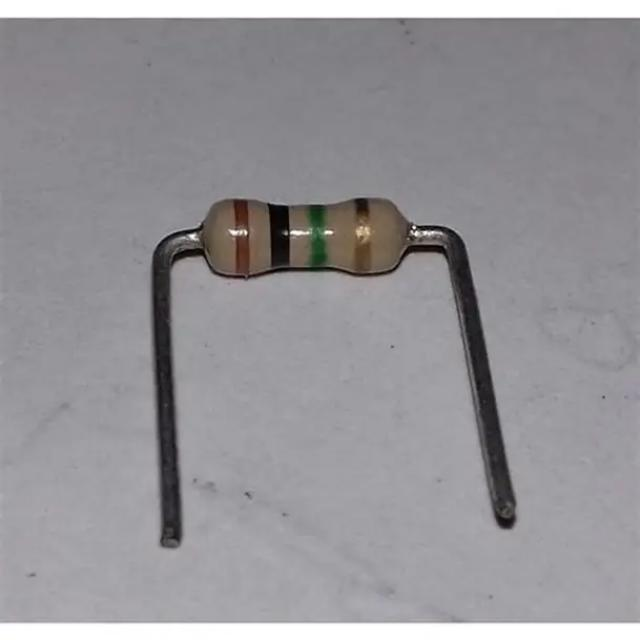black: (265, 203, 290, 269)
brown: (233, 199, 250, 278)
gold: (351, 197, 372, 274)
green: (305, 204, 329, 267)
resistor: (197, 187, 417, 298)
